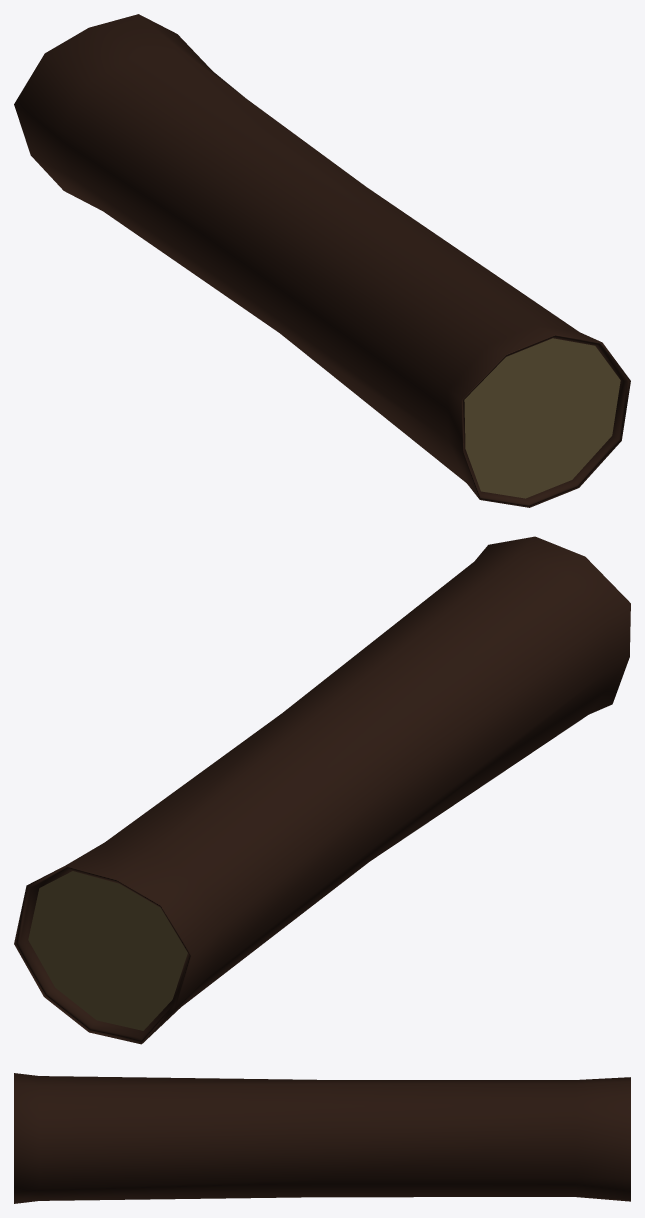
The model's file is Tronco.fbx.
3 views of the same model, one above another, from view 1: azimuth 30°, elevation 25°; view 2: azimuth 150°, elevation 25°; view 3: azimuth 270°, elevation 25° (orthographic). The views are drawn at different scales.
Parts seen in each view (by area): view 1: Tronco; view 2: Tronco; view 3: Tronco.
Boxes of the visible parts, x1,y1,x2,y2 form: Tronco: (14,14,630,507); Tronco: (14,536,630,1044); Tronco: (14,1073,630,1203).
Bounding box in the file's own units: 210 × 190 × 905.
